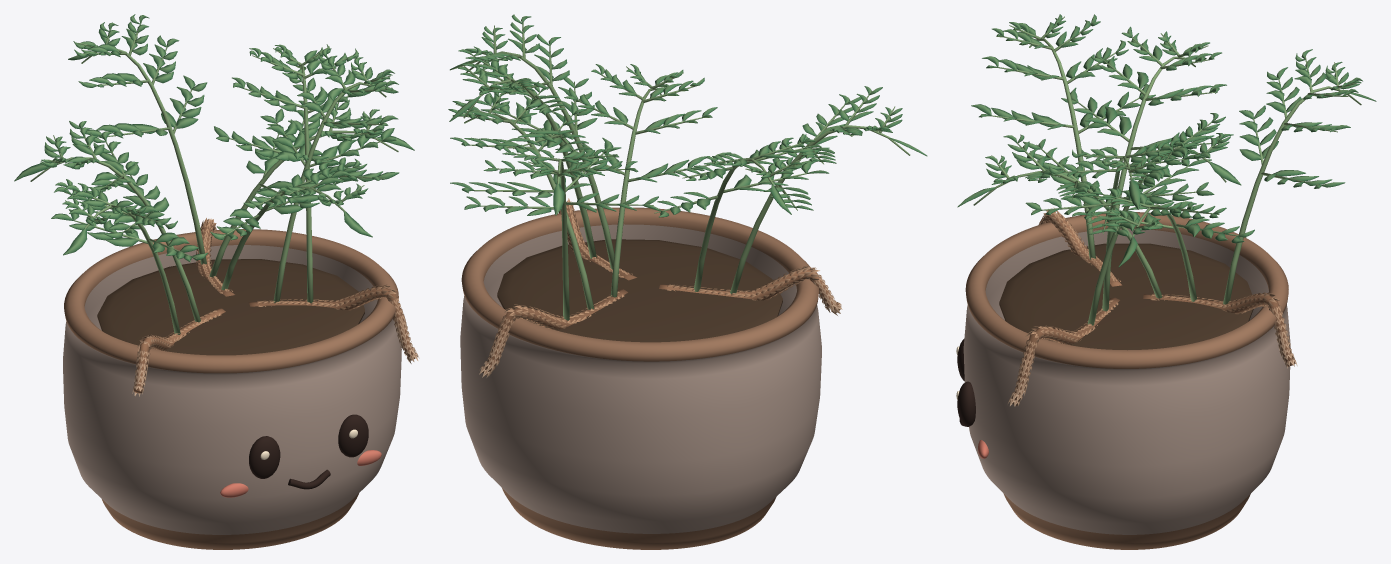
Rendered from rabbits-foot-fern-v1.glb.
The picture shows the model from 3 angles, left to right: view 1: azimuth 30°, elevation 25°; view 2: azimuth 150°, elevation 25°; view 3: azimuth 270°, elevation 25°; orthographic projection. The views are drawn at different scales.
Visible parts, largest first — view 1: Wheel-thrown ceramic, Foliage draw mesh, Soil, Eye, Eye.001; view 2: Wheel-thrown ceramic, Foliage draw mesh, Soil; view 3: Wheel-thrown ceramic, Foliage draw mesh, Soil, Eye.001.
Boxes of the visible parts, box(x1,y1,x2,y2) form: Wheel-thrown ceramic: box(63, 229, 401, 549); Foliage draw mesh: box(14, 14, 419, 396); Soil: box(97, 259, 364, 355); Eye: box(249, 436, 280, 478); Eye.001: box(338, 414, 368, 457); Wheel-thrown ceramic: box(460, 207, 821, 549); Foliage draw mesh: box(448, 14, 927, 377); Soil: box(497, 239, 782, 342); Wheel-thrown ceramic: box(963, 212, 1290, 549); Foliage draw mesh: box(957, 14, 1376, 406); Soil: box(999, 243, 1253, 350); Eye.001: box(957, 381, 975, 426).
Bounding box in the file's own units: 2.16 × 2.1 × 1.92.
